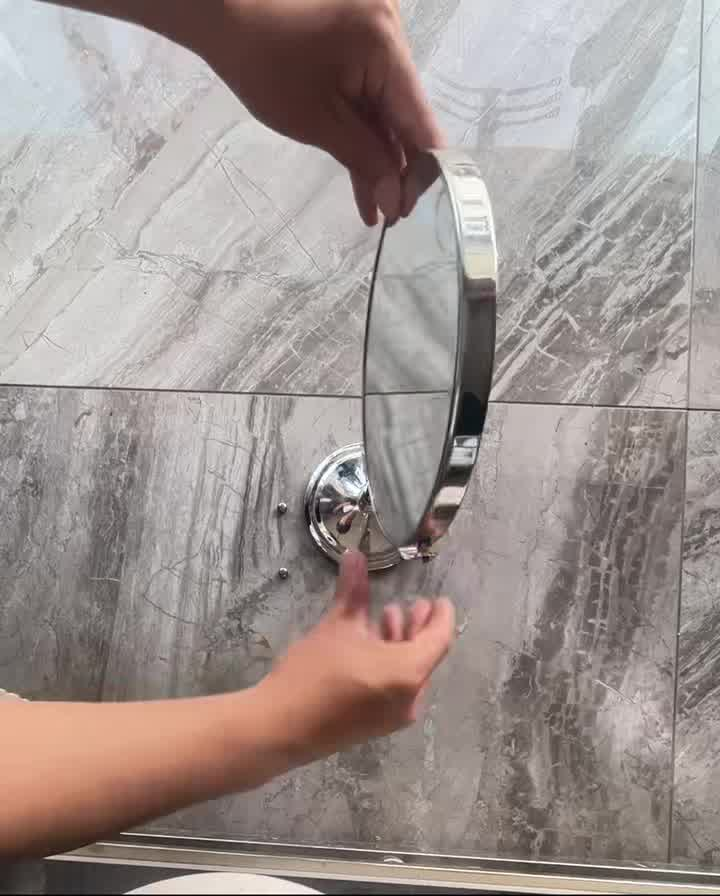base: (306, 441, 449, 582)
mirror: (358, 155, 519, 537)
screw: (272, 560, 298, 594), (273, 501, 286, 515)
